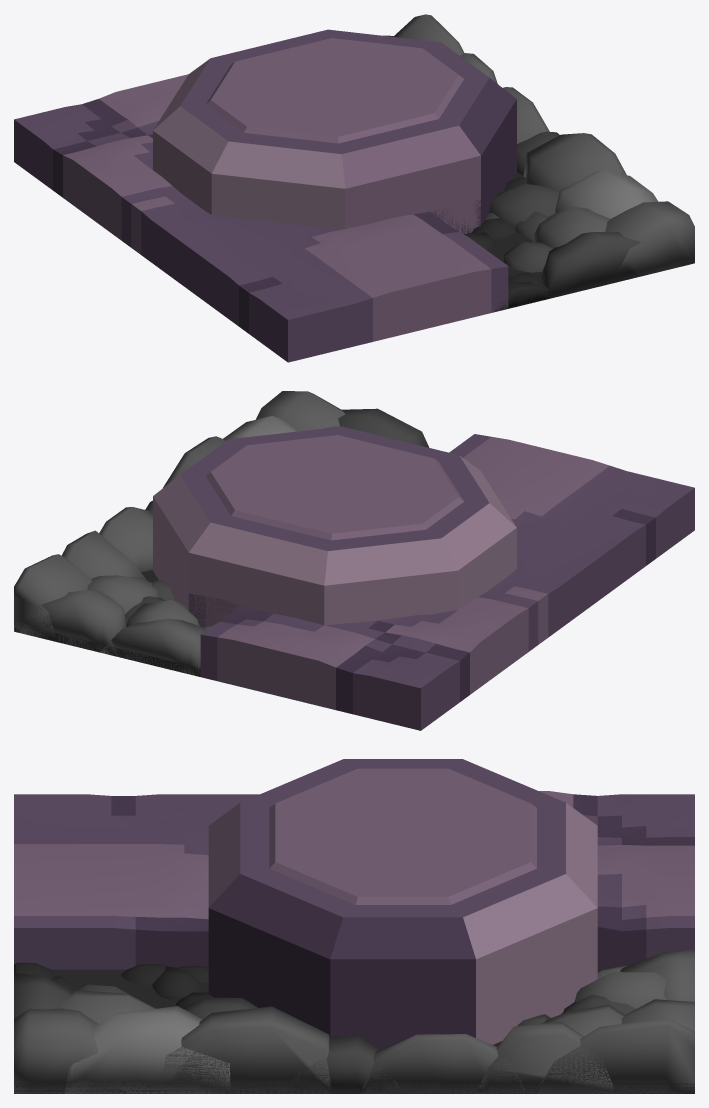
File: purple_pad_r.glb
3 renders of one model, top to bottom at view 1: azimuth 30°, elevation 25°; view 2: azimuth 150°, elevation 25°; view 3: azimuth 270°, elevation 25°, orthographic. The views are drawn at different scales.
Parts seen in each view (by area): view 1: purple_pad_r_floor, purple_pad_r_pad, purple_pad_r_pad_panel, purple_pad_r_rocks_11, purple_pad_r_rocks_22, purple_pad_r_rocks_1, purple_pad_r_rocks_0, purple_pad_r_rocks_20, purple_pad_r_rocks_5, purple_pad_r_rocks_base, purple_pad_r_rocks_2, purple_pad_r_rocks_18 (+4 smaller); view 2: purple_pad_r_floor, purple_pad_r_pad, purple_pad_r_pad_panel, purple_pad_r_rocks_7, purple_pad_r_rocks_2, purple_pad_r_rocks_9, purple_pad_r_rocks_11, purple_pad_r_rocks_6, purple_pad_r_rocks_4, purple_pad_r_rocks_22, purple_pad_r_rocks_base, purple_pad_r_rocks_15 (+3 smaller); view 3: purple_pad_r_pad, purple_pad_r_floor, purple_pad_r_pad_panel, purple_pad_r_rocks_1, purple_pad_r_rocks_0, purple_pad_r_rocks_2, purple_pad_r_rocks_6, purple_pad_r_rocks_4, purple_pad_r_rocks_11, purple_pad_r_rocks_base, purple_pad_r_rocks_21, purple_pad_r_rocks_3 (+9 smaller).
Part boxes in pixels (x1=…): purple_pad_r_floor: x1=14, y1=74, x2=508, y2=362; purple_pad_r_pad: x1=153, y1=29, x2=516, y2=233; purple_pad_r_pad_panel: x1=205, y1=38, x2=463, y2=143; purple_pad_r_rocks_11: x1=605, y1=201, x2=694, y2=276; purple_pad_r_rocks_22: x1=539, y1=232, x2=640, y2=299; purple_pad_r_rocks_1: x1=523, y1=133, x2=626, y2=192; purple_pad_r_rocks_0: x1=555, y1=170, x2=657, y2=218; purple_pad_r_rocks_20: x1=489, y1=184, x2=559, y2=226; purple_pad_r_rocks_5: x1=532, y1=206, x2=626, y2=283; purple_pad_r_rocks_base: x1=468, y1=172, x2=694, y2=308; purple_pad_r_rocks_2: x1=394, y1=14, x2=464, y2=55; purple_pad_r_rocks_18: x1=504, y1=242, x2=552, y2=272; purple_pad_r_floor: x1=188, y1=434, x2=694, y2=730; purple_pad_r_pad: x1=153, y1=426, x2=516, y2=626; purple_pad_r_pad_panel: x1=206, y1=435, x2=463, y2=540; purple_pad_r_rocks_7: x1=19, y1=590, x2=125, y2=656; purple_pad_r_rocks_2: x1=14, y1=554, x2=91, y2=641; purple_pad_r_rocks_9: x1=100, y1=618, x2=206, y2=676; purple_pad_r_rocks_11: x1=256, y1=391, x2=345, y2=431; purple_pad_r_rocks_6: x1=99, y1=507, x2=152, y2=572; purple_pad_r_rocks_4: x1=61, y1=530, x2=147, y2=580; purple_pad_r_rocks_22: x1=338, y1=408, x2=429, y2=447; purple_pad_r_rocks_base: x1=14, y1=570, x2=200, y2=676; purple_pad_r_rocks_15: x1=87, y1=575, x2=158, y2=613; purple_pad_r_pad: x1=208, y1=759, x2=597, y2=1049; purple_pad_r_floor: x1=14, y1=791, x2=694, y2=1049; purple_pad_r_pad_panel: x1=269, y1=768, x2=536, y2=904; purple_pad_r_rocks_1: x1=162, y1=1006, x2=330, y2=1093; purple_pad_r_rocks_0: x1=65, y1=1006, x2=230, y2=1093; purple_pad_r_rocks_2: x1=538, y1=1018, x2=694, y2=1093; purple_pad_r_rocks_6: x1=361, y1=1034, x2=525, y2=1093; purple_pad_r_rocks_4: x1=475, y1=1022, x2=614, y2=1093; purple_pad_r_rocks_11: x1=14, y1=1008, x2=122, y2=1093; purple_pad_r_rocks_base: x1=14, y1=969, x2=694, y2=1093; purple_pad_r_rocks_21: x1=289, y1=1036, x2=403, y2=1093; purple_pad_r_rocks_3: x1=574, y1=972, x2=666, y2=1008.
Size of the model in its own units: 24 by 6.25 by 28.
